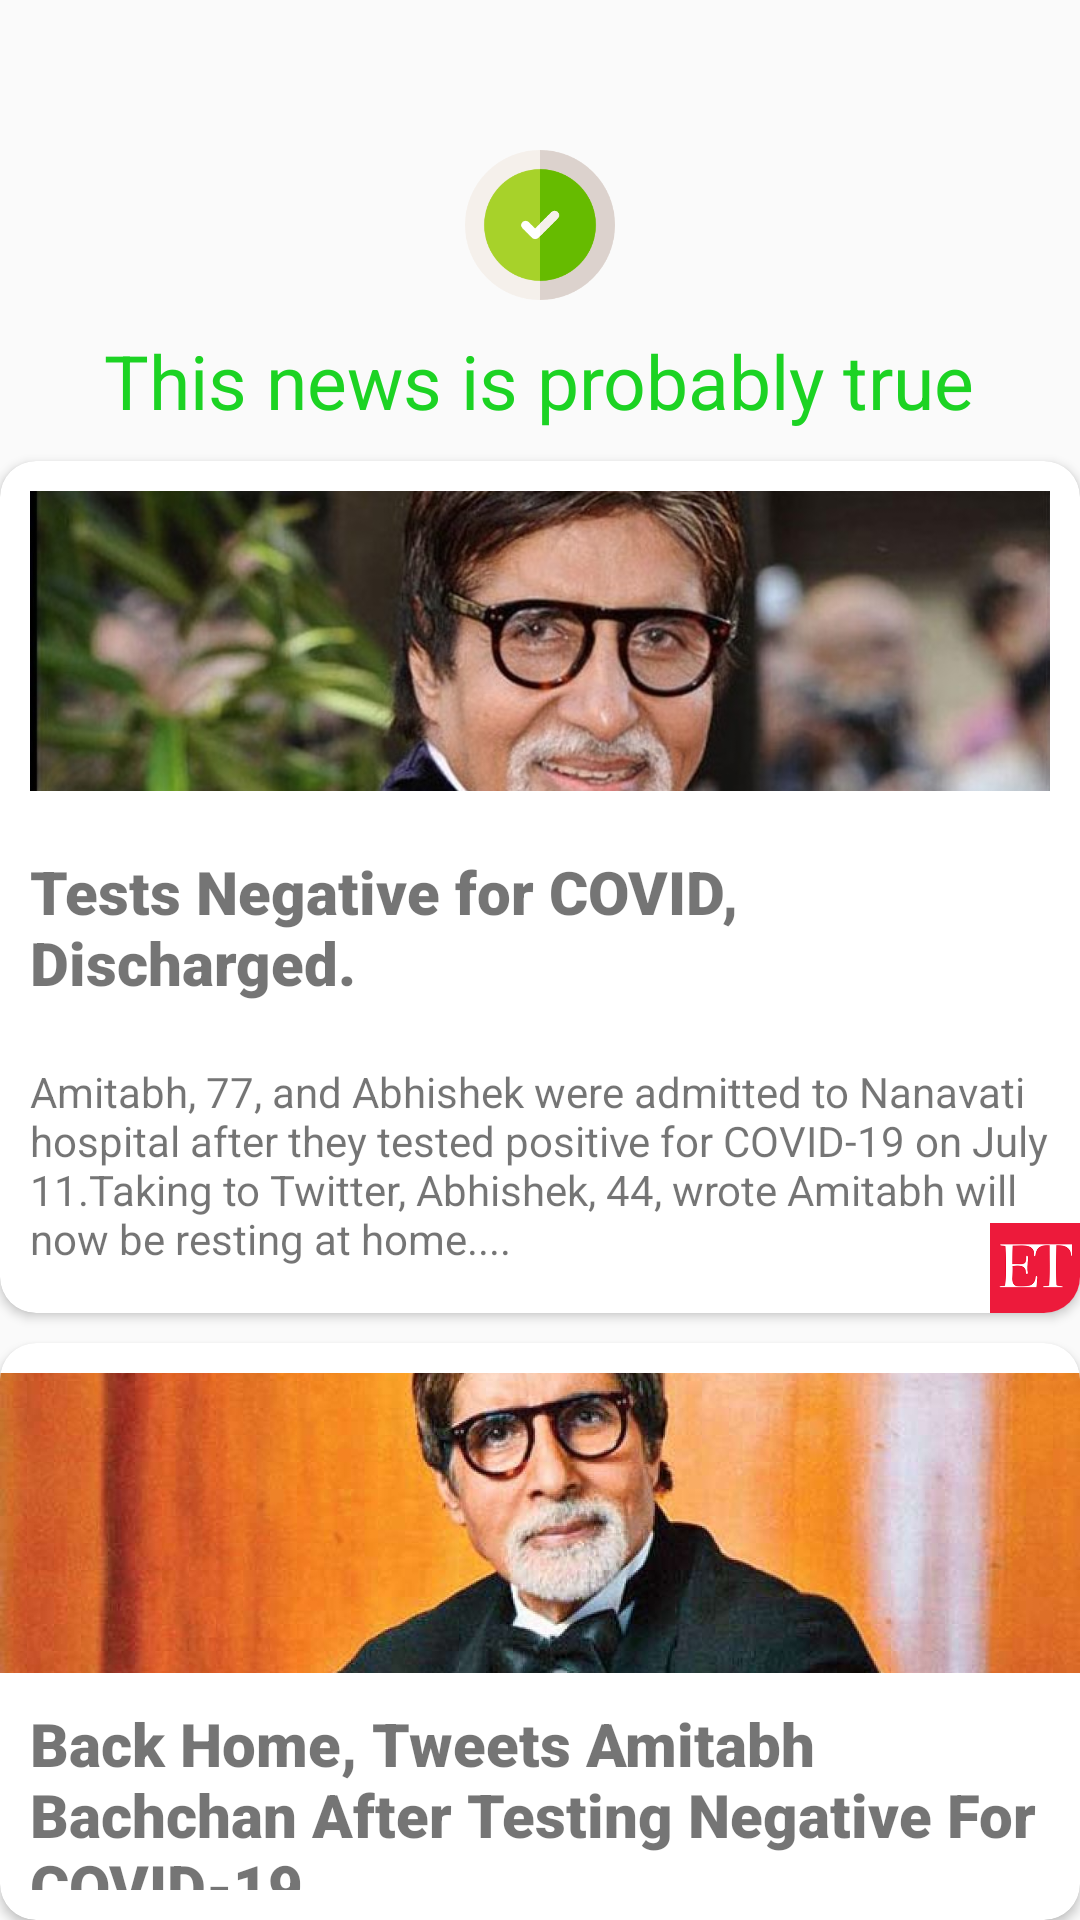

Screen size 1080x1920. Icon name, then its center in pixels as (x=x, y=y):
true sign: (x=549, y=225)
